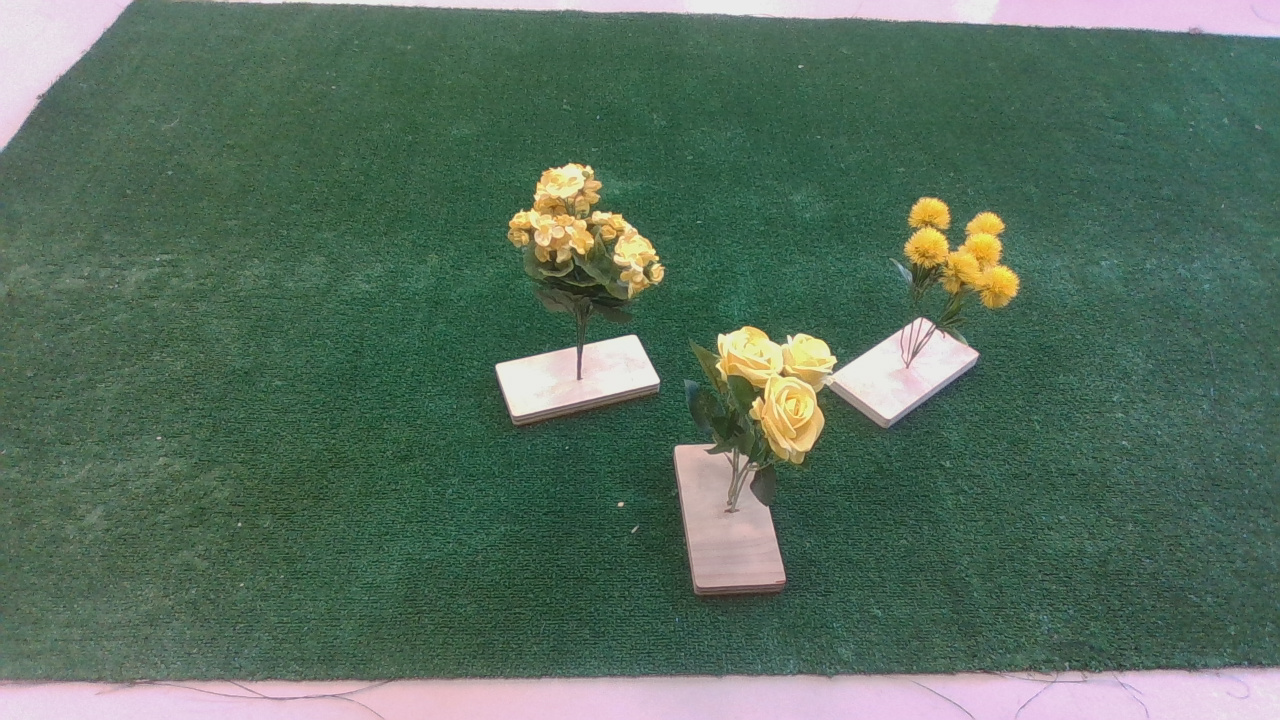dandelion: (887, 193, 1049, 321)
geranium: (496, 166, 676, 315)
rose: (665, 329, 845, 470)
